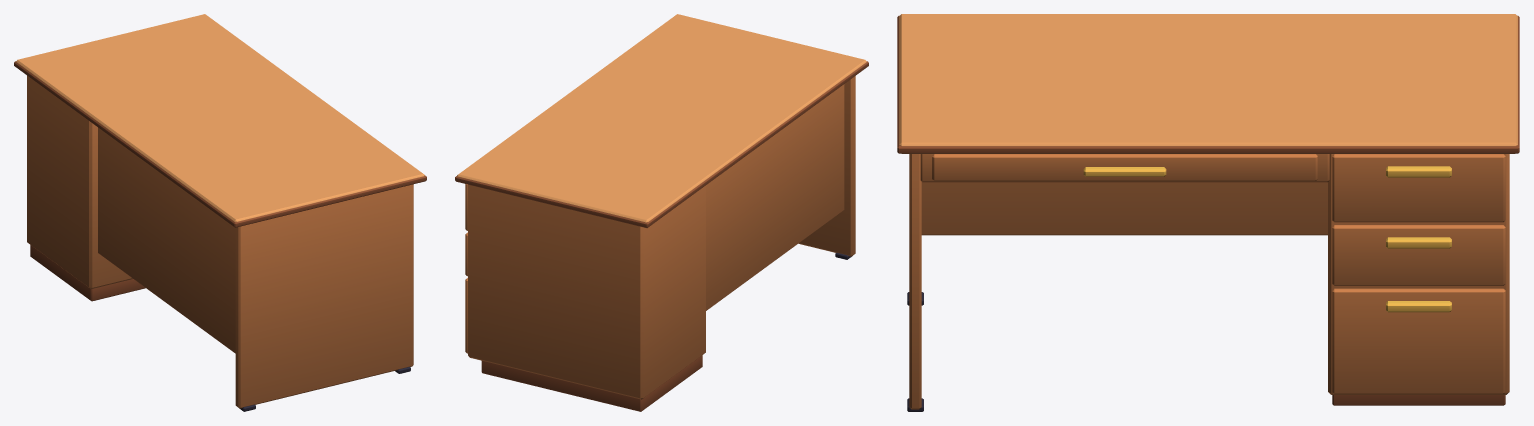
File: Desk.fbx
3 renders of one model, left to right at view 1: azimuth 30°, elevation 25°; view 2: azimuth 150°, elevation 25°; view 3: azimuth 270°, elevation 25°, orthographic. The views are drawn at different scales.
Visible parts, largest first — view 1: Desk; view 2: Desk; view 3: Desk.
Boxes of the visible parts, x1,y1,x2,y2 form: Desk: (14, 14, 426, 411); Desk: (455, 14, 868, 411); Desk: (897, 14, 1519, 411).
Size of the model in its own units: 3.41 by 3.33 by 6.79.
1 material, 1 textured.
